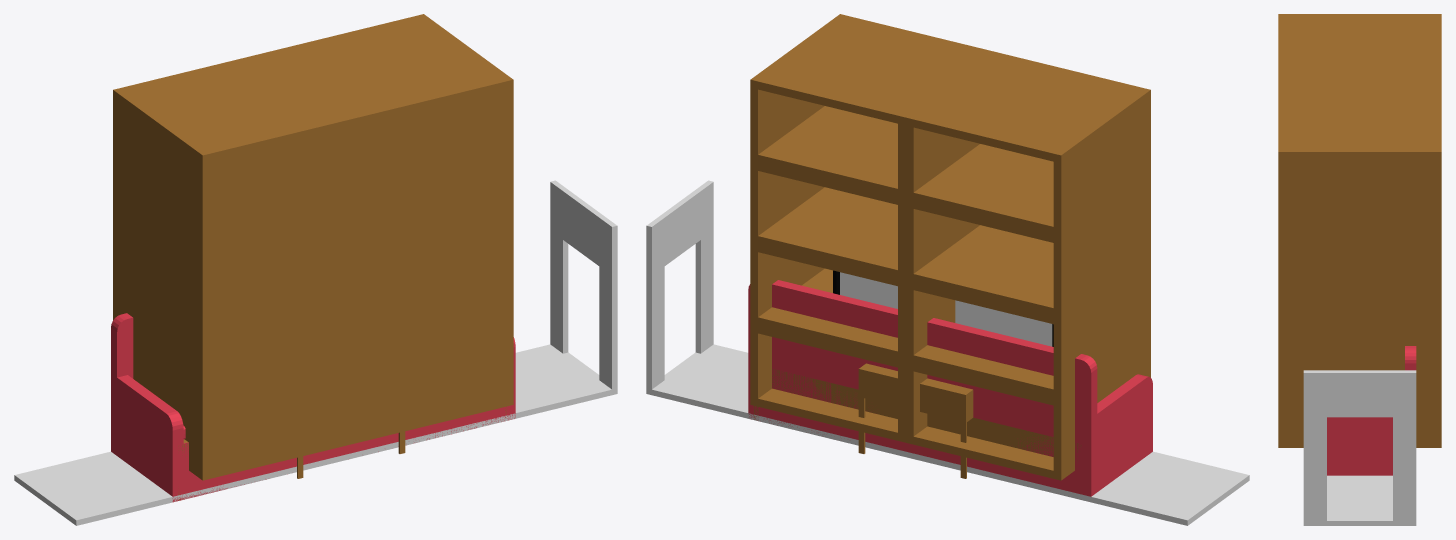
Rendered from room.fbx.
3 views of the same model, side by side, from view 1: azimuth 30°, elevation 25°; view 2: azimuth 150°, elevation 25°; view 3: azimuth 270°, elevation 25° (orthographic). The views are drawn at different scales.
Parts seen in each view (by area): view 1: BookShelf, Wall, Sofa; view 2: BookShelf, Sofa, Wall, Table1, Table2, TV; view 3: BookShelf, Wall, Sofa.
Part boxes in pixels (x1,y1,x2,y2): BookShelf: (113,14,513,480); Wall: (14,180,617,525); Sofa: (111,313,515,502); BookShelf: (750,14,1150,480); Sofa: (748,280,1152,496); Wall: (646,180,1249,525); Table1: (753,369,1081,460); Table2: (858,363,973,478); TV: (833,270,1053,346); BookShelf: (1278,14,1441,447); Wall: (1303,370,1416,525); Sofa: (1327,346,1416,475).
Bounding box in the file's own units: 1010 × 630 × 290.
